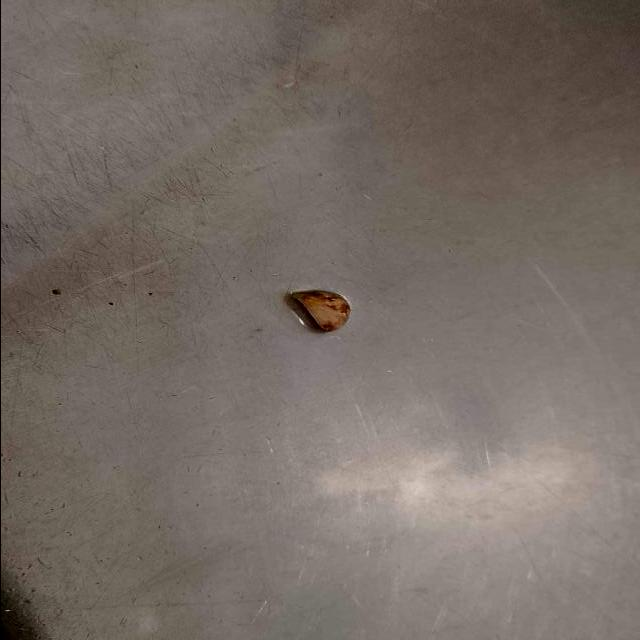Infectious: (290, 288, 352, 332)
